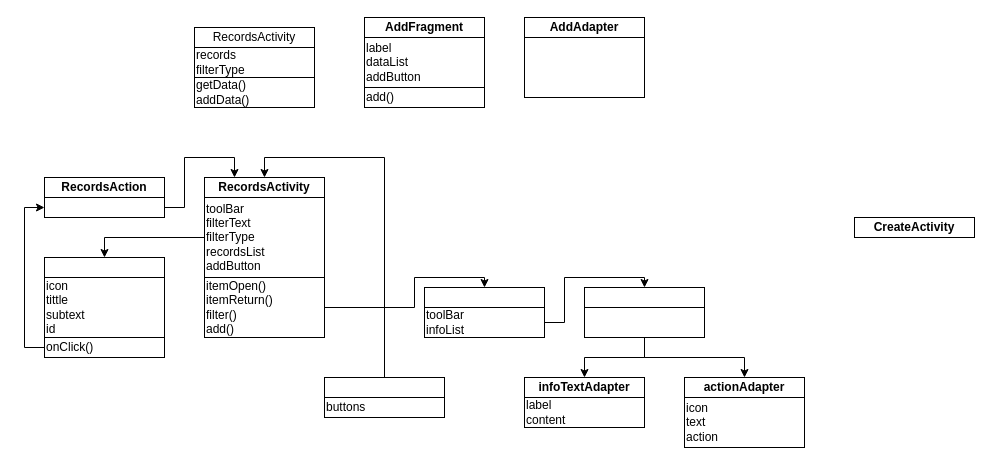
Some shapes in this 992 by 465 pixel diagram are drawn without their labels. The box of each missing label's shape, as (x1, y1, x2, y2) in pixels:
InfoActivity: (424, 286, 544, 308)
ItemAdapter: (584, 286, 704, 308)
itemClick(): (44, 196, 164, 218)
label Item: (524, 36, 644, 98)
label items: (584, 306, 704, 338)
MainActivity: (324, 376, 444, 398)
RecordAdapter: (44, 256, 164, 278)
